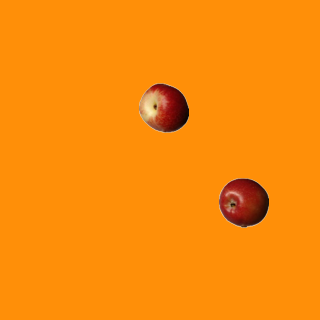Apple Braeburn: (218, 177, 268, 227)
Nectarine: (138, 82, 188, 132)
